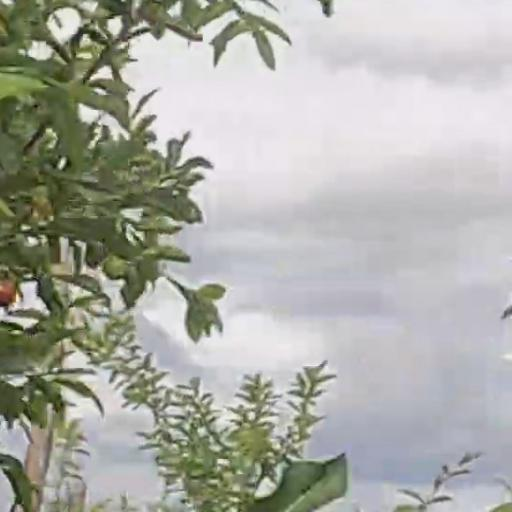acerola_vermelha: (1, 276, 15, 303)
